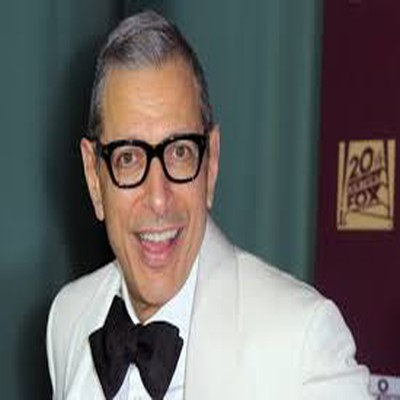eywear: (94, 110, 222, 197)
